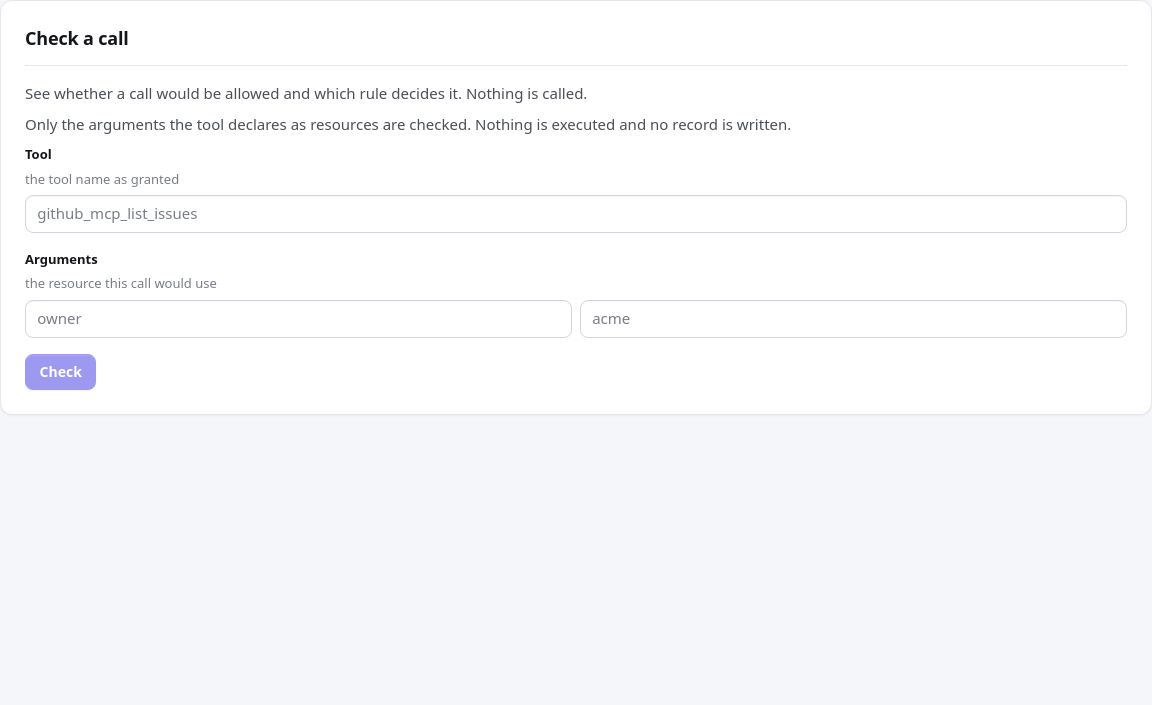
Scenario: the answer › says recorded under, not attributed to, when nothing allowed it
In the field labelled "Tool the tool name as granted": (576, 214) left=25, top=195, right=1127, bottom=233, type "t"
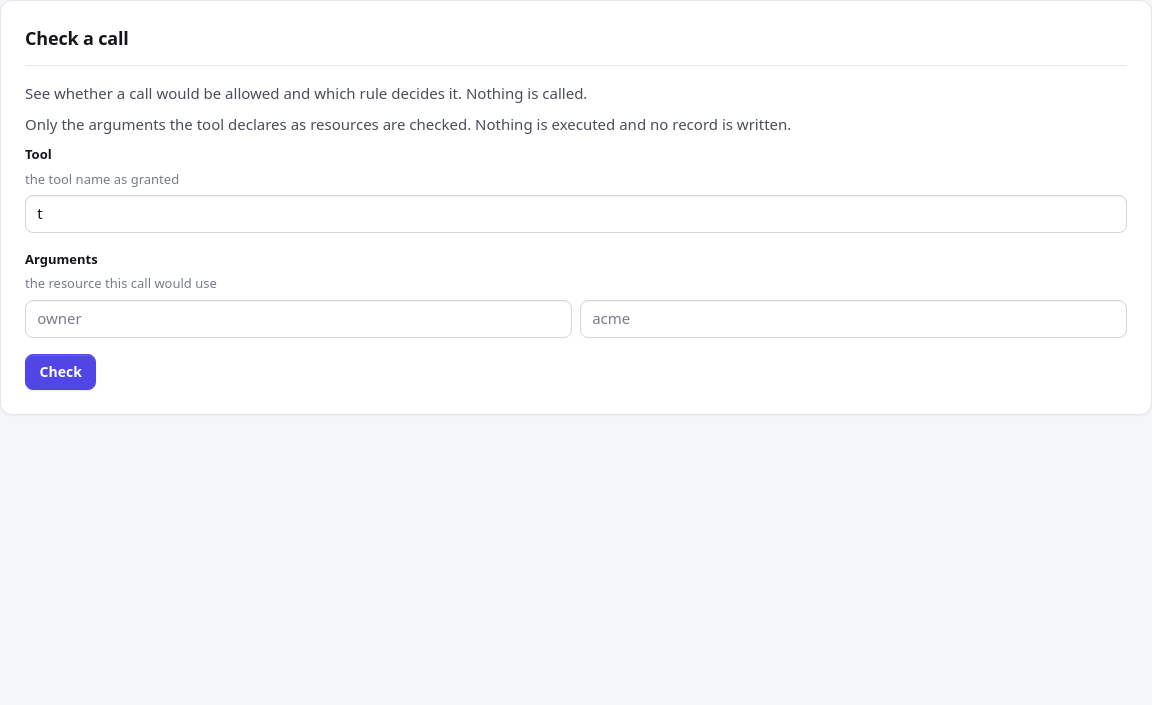
Click the button "Check": (61, 372) left=25, top=354, right=96, bottom=390
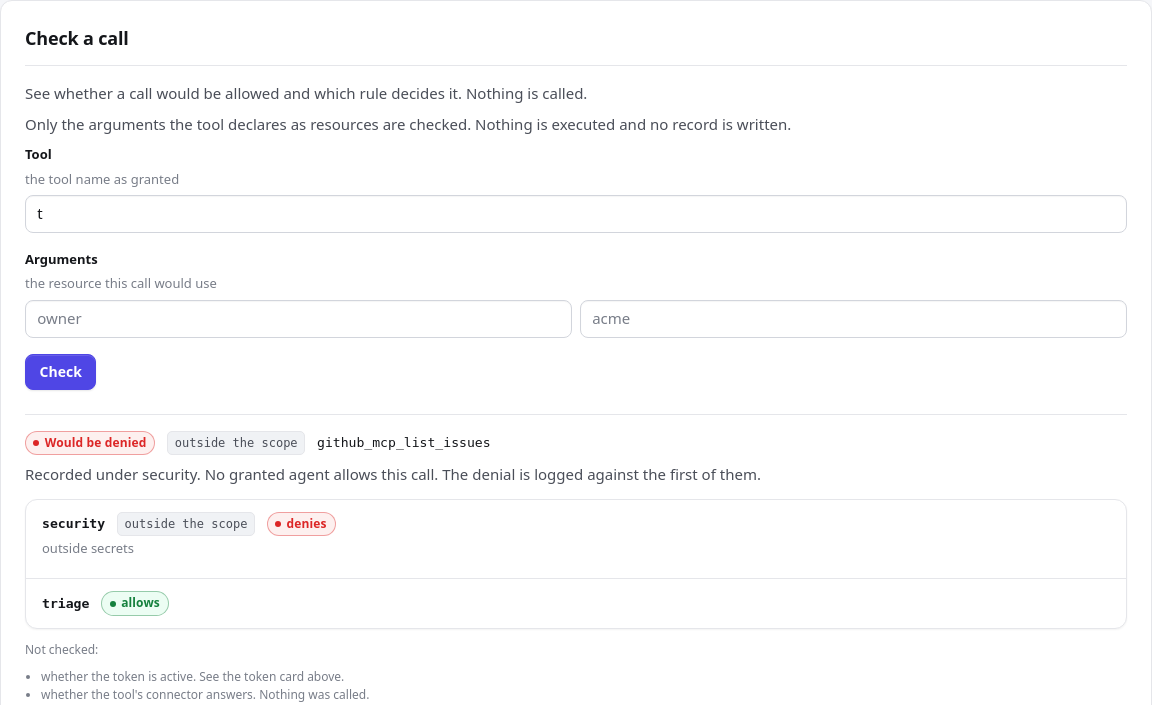
Expected: the text "Recorded under security" is shown, left=25, top=464, right=761, bottom=484
